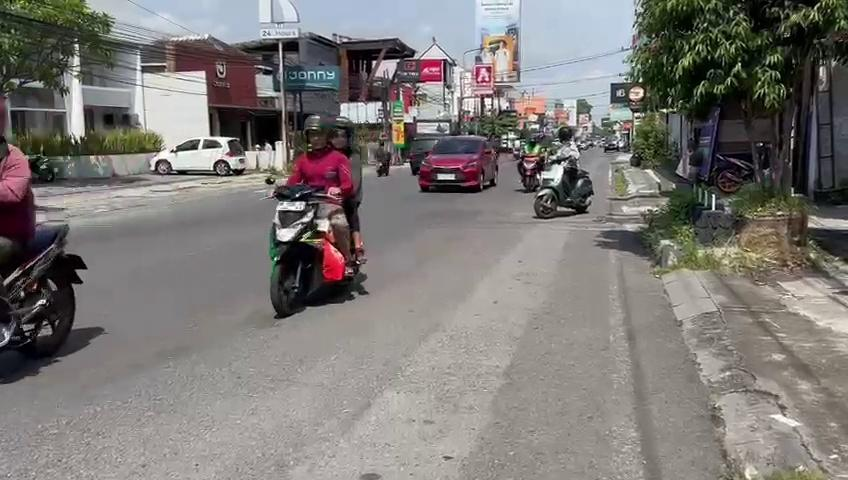helm: (301, 114, 333, 151)
riding: (259, 109, 376, 323)
